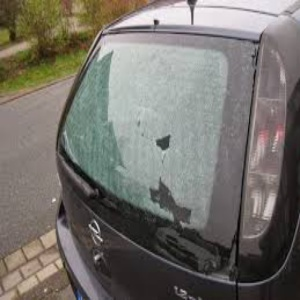rear_windshield_glass: (104, 97, 210, 220)
